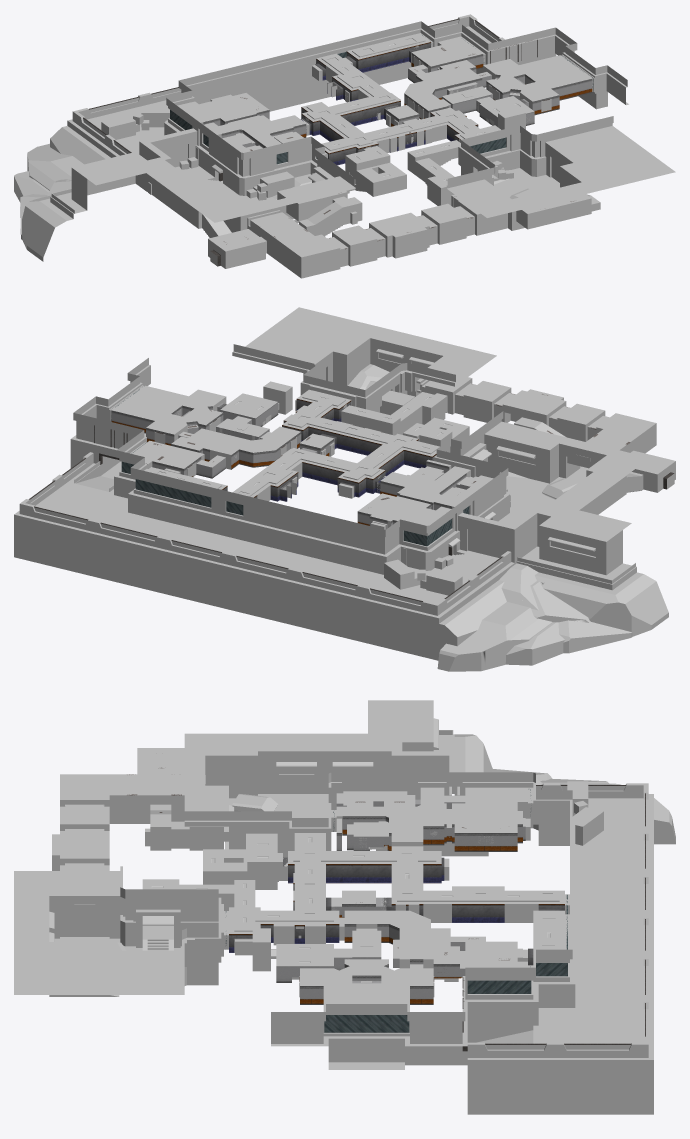
Rendered from TheOffice.fbx.
The picture shows the model from 3 angles, top to bottom: view 1: azimuth 30°, elevation 25°; view 2: azimuth 150°, elevation 25°; view 3: azimuth 270°, elevation 25°; orthographic projection. The views are drawn at different scales.
Parts seen in each view (by area): view 1: cs_office:BSP_Object_model_0, cs_office:BSP_Object_model_201, cs_office:BSP_Object_model_10; view 2: cs_office:BSP_Object_model_0, cs_office:BSP_Object_model_10, cs_office:BSP_Object_model_140, cs_office:BSP_Object_model_131, cs_office:BSP_Object_model_165; view 3: cs_office:BSP_Object_model_0, cs_office:BSP_Object_model_11, cs_office:BSP_Object_model_200, cs_office:BSP_Object_model_132, cs_office:BSP_Object_model_10, cs_office:BSP_Object_model_196.
Boxes of the visible parts, box(x1,y1,x2,y2) form: cs_office:BSP_Object_model_0: box(14, 14, 675, 278); cs_office:BSP_Object_model_201: box(246, 171, 294, 200); cs_office:BSP_Object_model_10: box(83, 19, 498, 153); cs_office:BSP_Object_model_0: box(14, 307, 675, 671); cs_office:BSP_Object_model_10: box(30, 459, 502, 605); cs_office:BSP_Object_model_140: box(135, 479, 243, 515); cs_office:BSP_Object_model_131: box(517, 557, 635, 583); cs_office:BSP_Object_model_165: box(348, 364, 389, 389); cs_office:BSP_Object_model_0: box(14, 700, 675, 1114); cs_office:BSP_Object_model_11: box(324, 1015, 409, 1032); cs_office:BSP_Object_model_200: box(60, 911, 109, 936); cs_office:BSP_Object_model_132: box(467, 966, 531, 993); cs_office:BSP_Object_model_10: box(485, 786, 630, 1049); cs_office:BSP_Object_model_196: box(232, 794, 277, 811).
Size of the model in its own units: 5136 by 752 by 4038.
